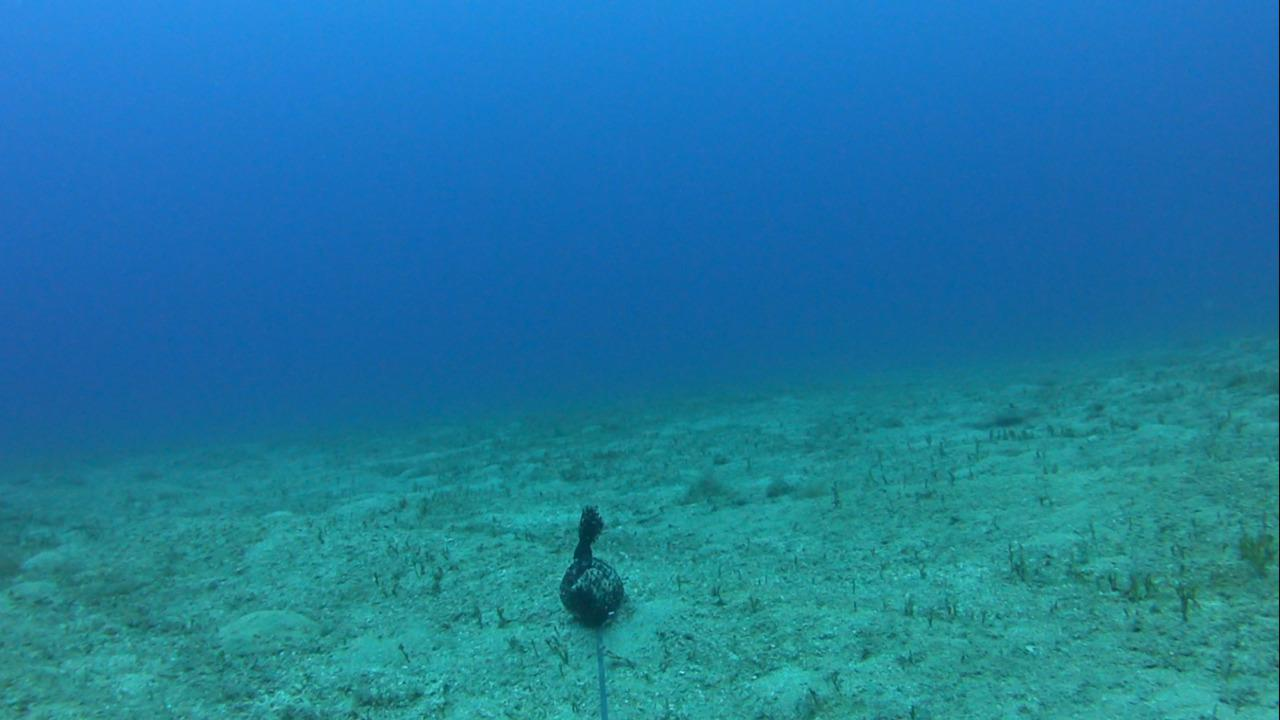dactylopterus: (942, 397, 1043, 439)
